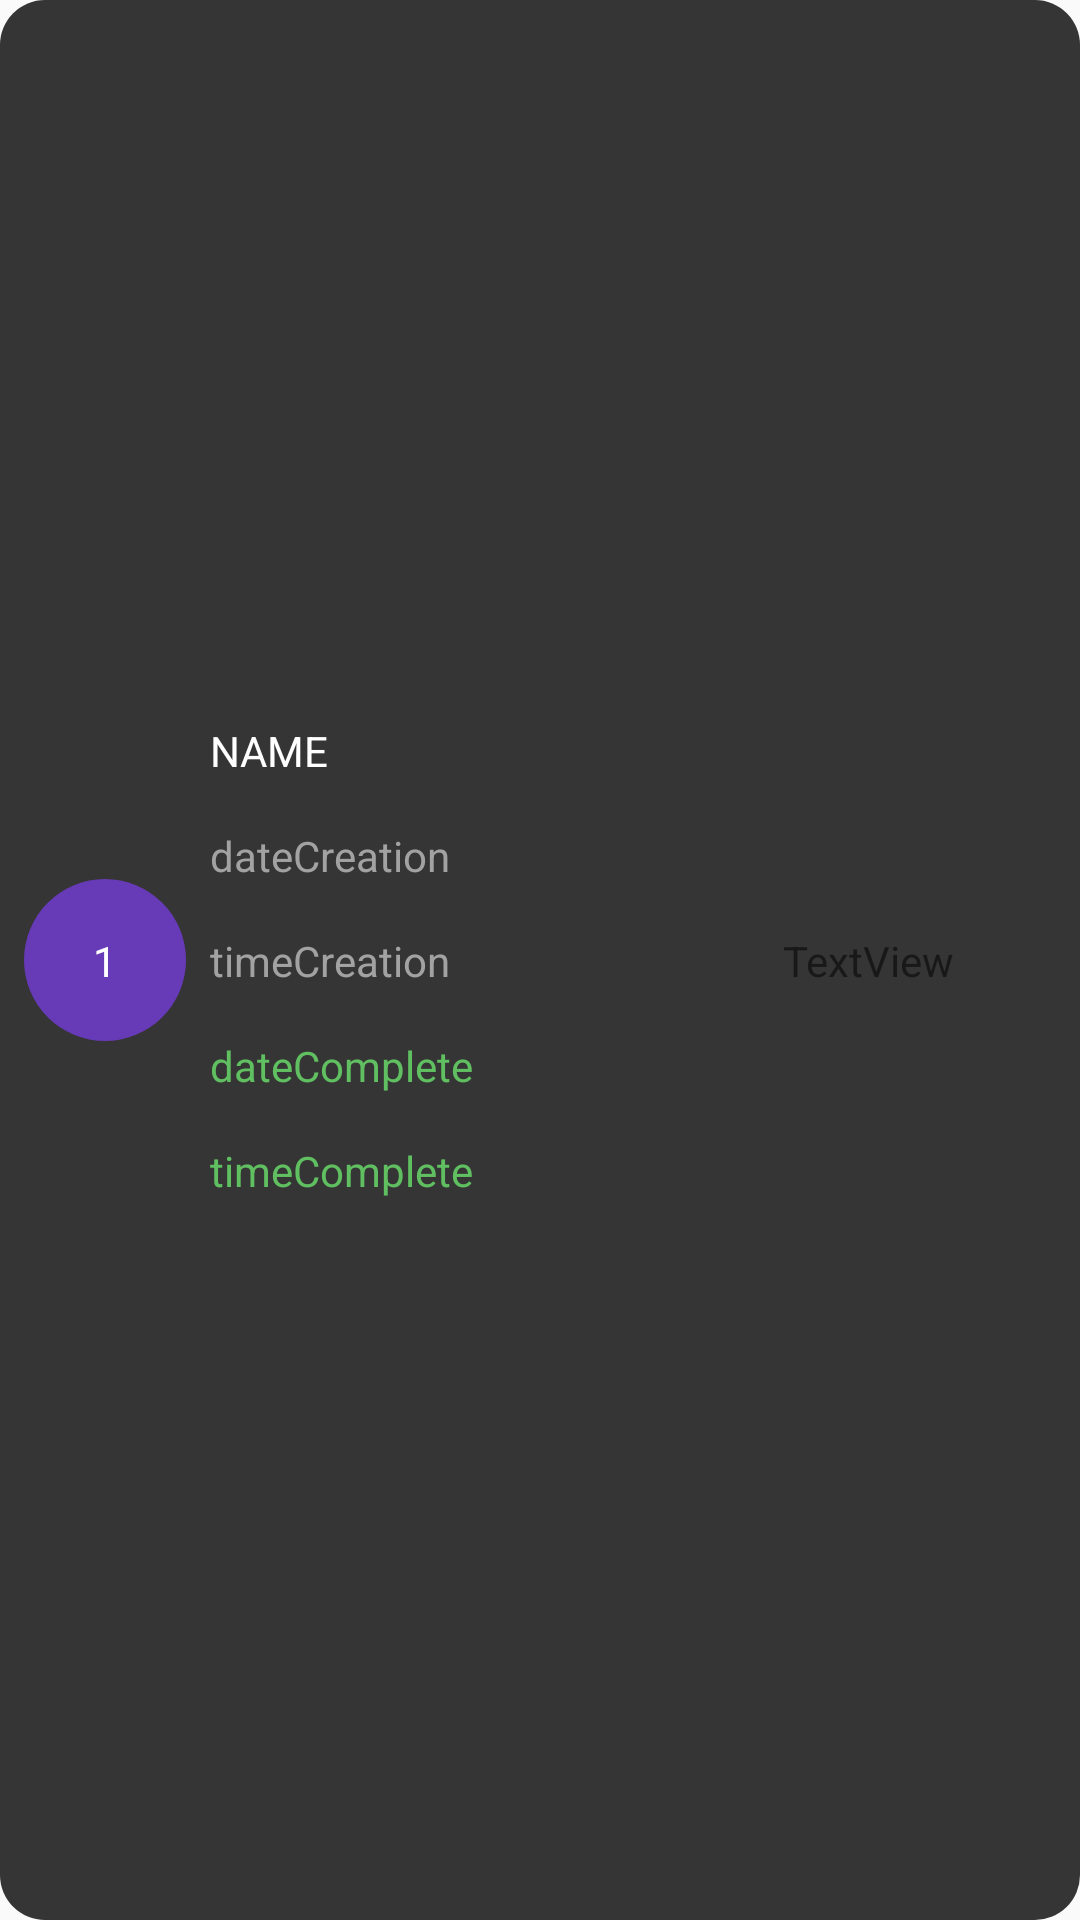

Icons on this 1080w x 1920h Android screen, each with its box as (x1, y1, x2, y2):
circle: (24, 879, 186, 1041)
